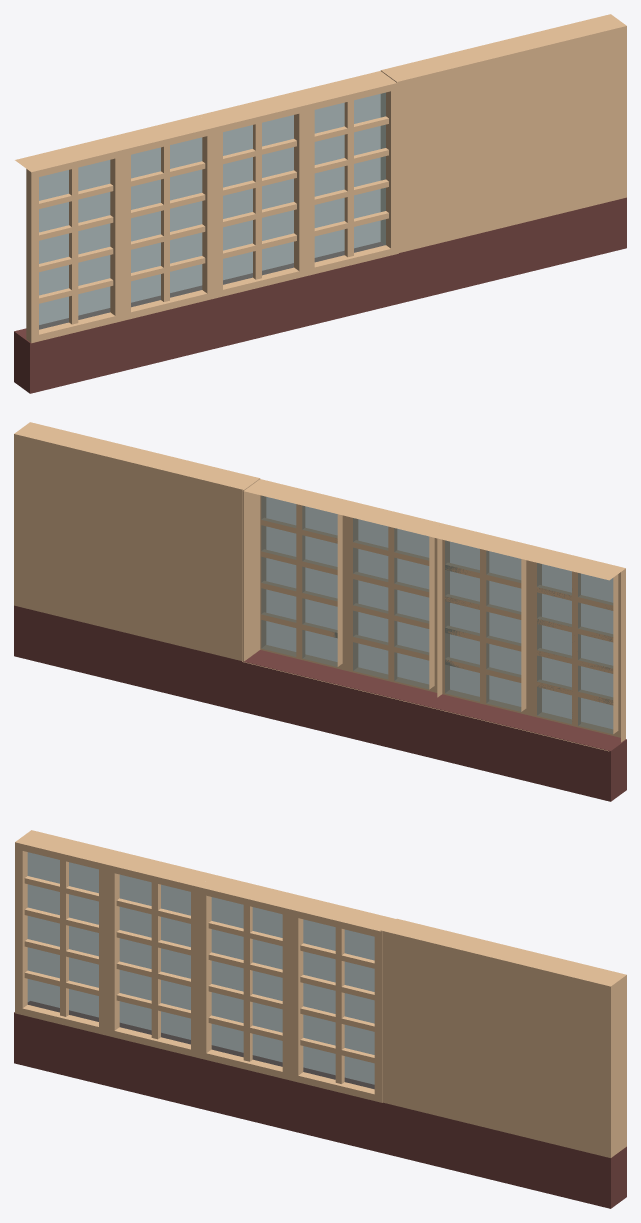
Rendered from parede direita.fbx.
3 views of the same model, one above another, from view 1: azimuth 30°, elevation 25°; view 2: azimuth 150°, elevation 25°; view 3: azimuth 330°, elevation 25° (orthographic).
Parts seen in each view (by area): view 1: Plane.084; view 2: Plane.084; view 3: Plane.084.
Part boxes in pixels (left/top/right/bottom): Plane.084: left=14, top=14, right=626, bottom=393; Plane.084: left=14, top=422, right=626, bottom=801; Plane.084: left=14, top=830, right=626, bottom=1208.
Size of the model in its own units: 40.2 by 14.31 by 1.95.
